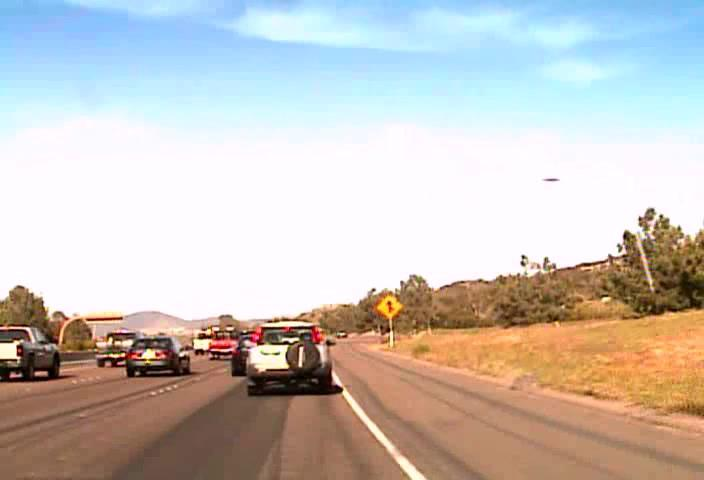merge: (375, 292, 404, 318)
